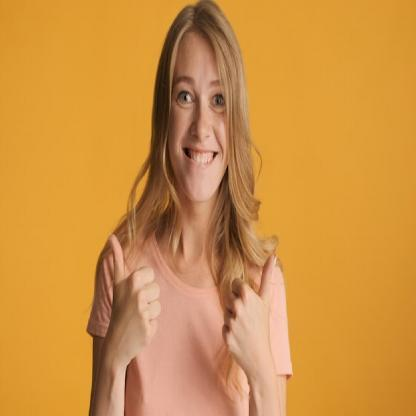thumb_up: (219, 245, 281, 370), (106, 230, 162, 358)
